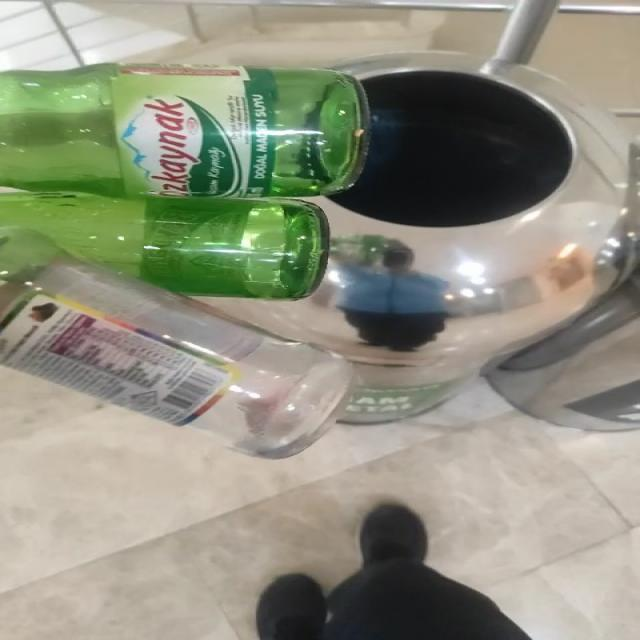bottles: (0, 226, 353, 459)
cups: (0, 61, 371, 200), (0, 186, 330, 301)
